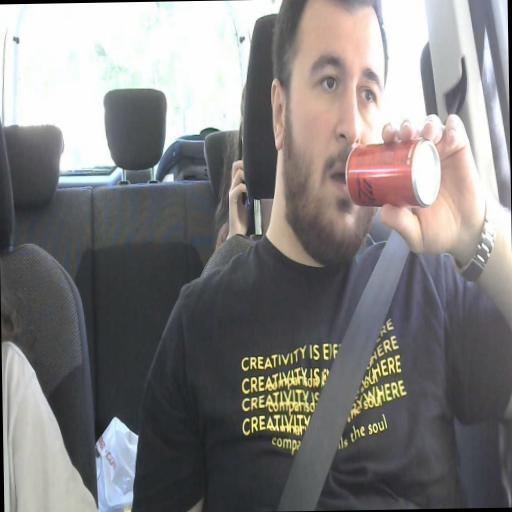Drinking: (270, 1, 482, 253)
